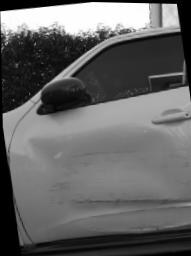Door: (1, 84, 191, 255)
